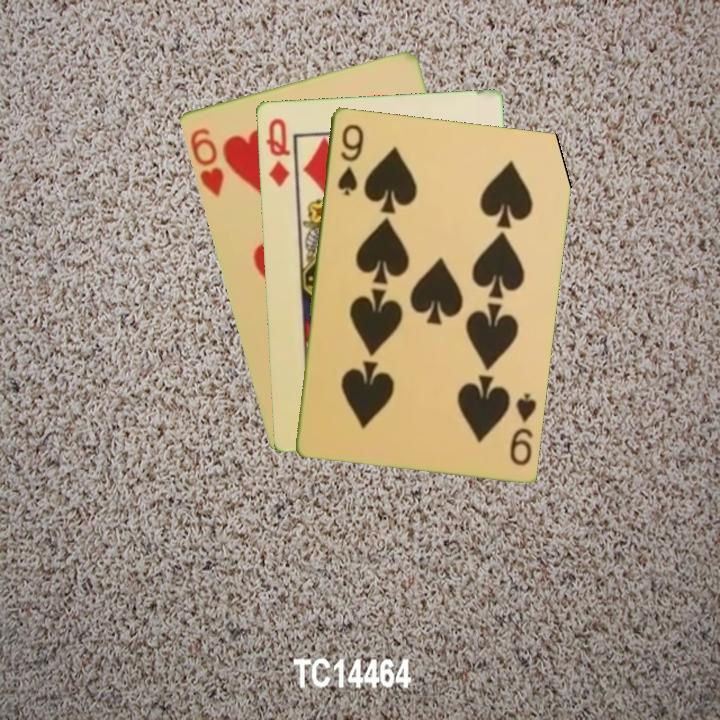6h: (186, 124, 227, 199)
9s: (506, 389, 539, 468), (333, 120, 366, 198)
Qd: (261, 114, 293, 189)
